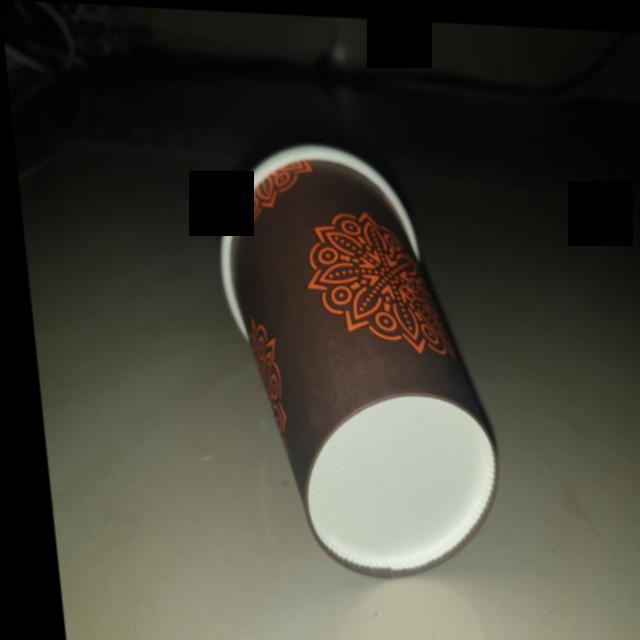cups: (198, 135, 502, 580)
